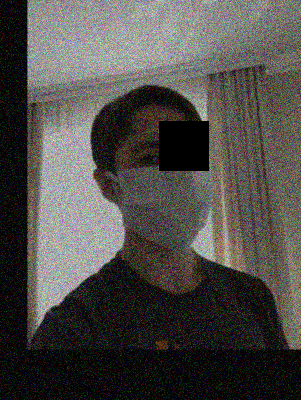with_mask: (113, 126, 215, 254)
